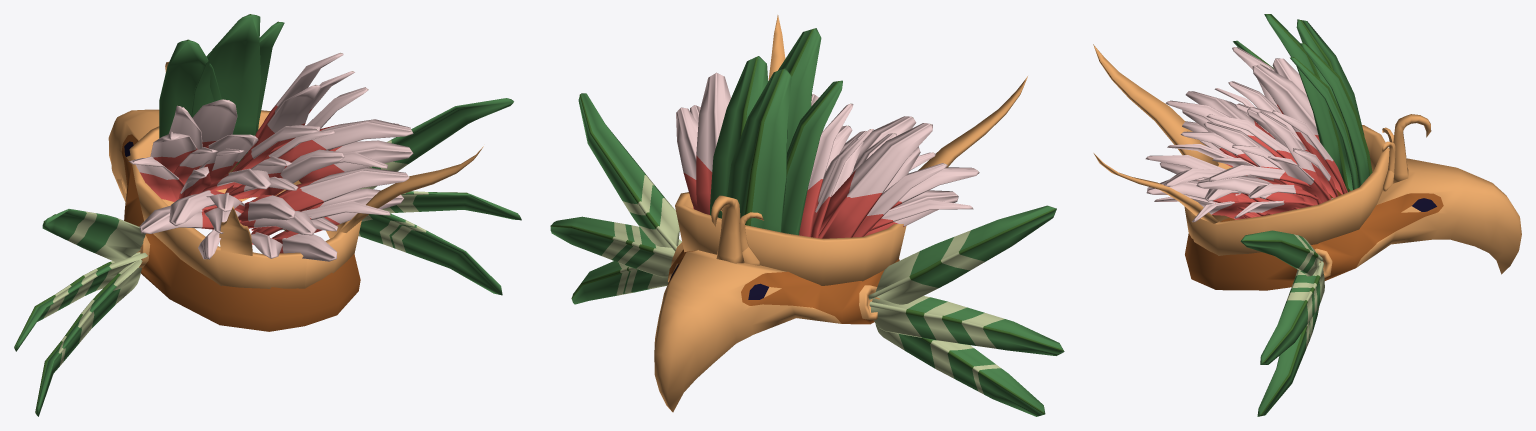
File: HuitzilopochtliMask.fbx
The picture shows the model from 3 angles, left to right: view 1: azimuth 30°, elevation 25°; view 2: azimuth 150°, elevation 25°; view 3: azimuth 270°, elevation 25°; orthographic projection. The views are drawn at different scales.
Parts seen in each view (by area): view 1: Skin.001; view 2: Skin.001; view 3: Skin.001.
Part boxes in pixels (box(x1,y1,x2,y2)): Skin.001: box(14, 14, 521, 416); Skin.001: box(550, 15, 1064, 416); Skin.001: box(1093, 14, 1521, 416).
Size of the model in its own units: 538 by 343 by 444.
